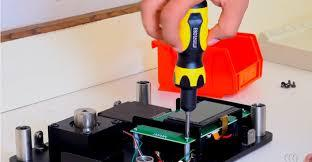screwdriver: (172, 0, 208, 139)
